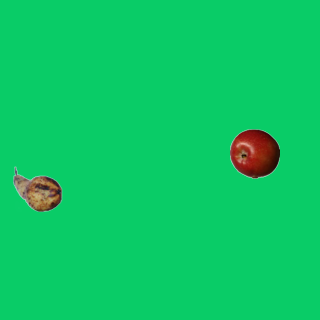Apple Braeburn: (229, 128, 279, 178)
Pear Abate: (12, 164, 62, 214)
